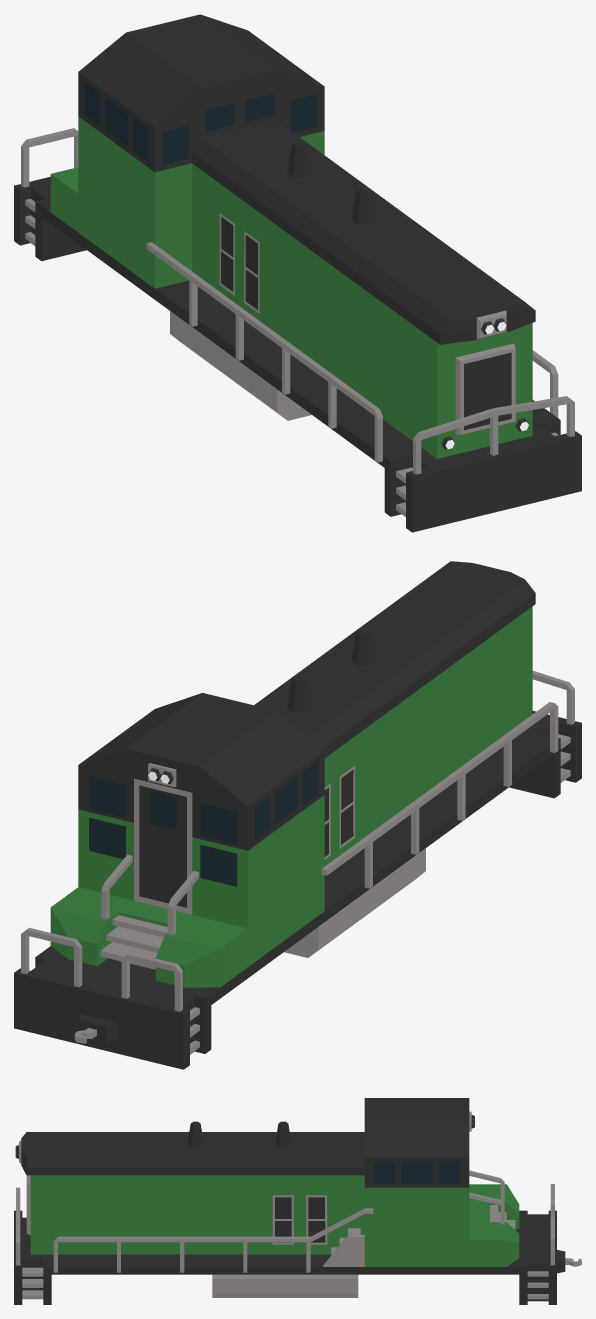
File: train-freight-short-base.glb
The picture shows the model from 3 angles, top to bottom: view 1: azimuth 30°, elevation 25°; view 2: azimuth 150°, elevation 25°; view 3: azimuth 270°, elevation 25°; orthographic projection. The views are drawn at different scales.
Visible parts, largest first — view 1: train-freight-short-base; view 2: train-freight-short-base; view 3: train-freight-short-base.
Boxes of the visible parts, box(x1,y1,x2,y2) form: train-freight-short-base: box(14, 14, 581, 532); train-freight-short-base: box(14, 561, 581, 1069); train-freight-short-base: box(14, 1098, 581, 1304).
Size of the model in its own units: 3.4 by 4.4 by 13.6.
Materials: 1 (1 with a texture image).
